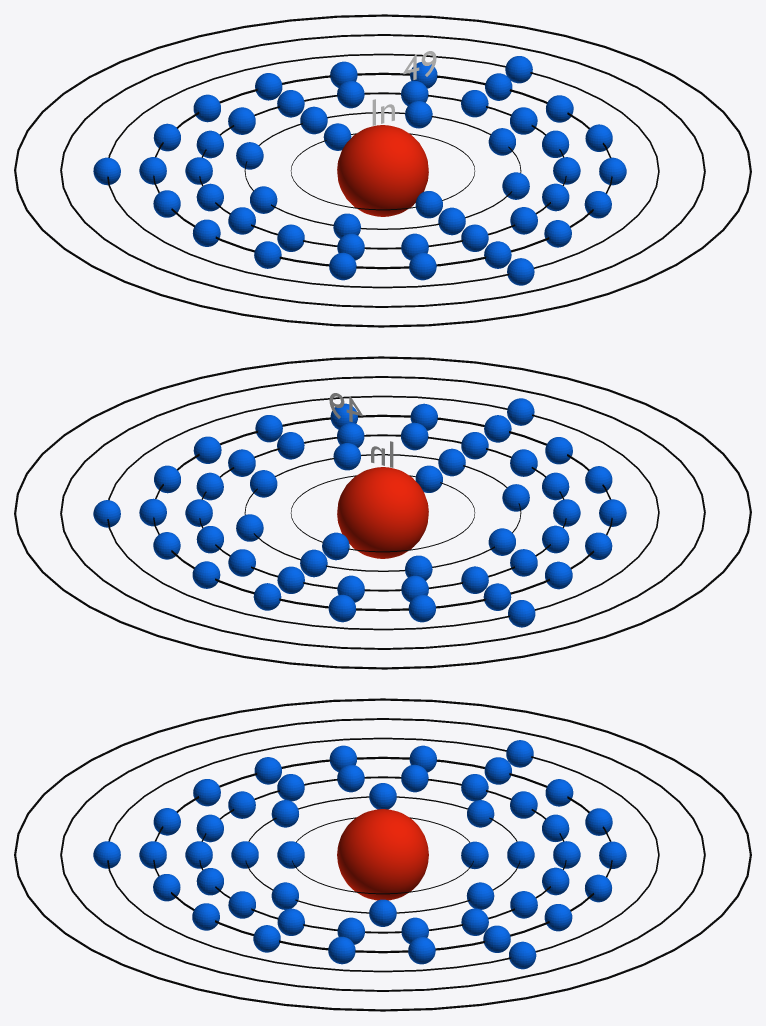
The picture shows the model from 3 angles, top to bottom: view 1: azimuth 30°, elevation 25°; view 2: azimuth 150°, elevation 25°; view 3: azimuth 270°, elevation 25°; orthographic projection.
Visible parts, largest first — view 1: In3, In4, Proton, In2, n7, n6, n5, In5, n4, In1, n3, n2; view 2: In3, In4, Proton, In2, n7, n6, n5, In5, n4, In1, n3, n2; view 3: In3, In4, Proton, In2, n7, n6, n5, In5, n4, In1, n3, n2 (+1 smaller).
Part boxes in pixels (bbox=[...]): In3: bbox=[185, 80, 580, 260]; In4: bbox=[139, 61, 626, 280]; Proton: bbox=[337, 125, 428, 216]; In2: bbox=[236, 101, 529, 238]; n7: bbox=[14, 14, 751, 327]; n6: bbox=[60, 34, 705, 307]; n5: bbox=[107, 53, 659, 288]; In5: bbox=[93, 56, 534, 285]; n4: bbox=[153, 72, 612, 269]; In1: bbox=[323, 123, 442, 218]; n3: bbox=[199, 92, 566, 249]; n2: bbox=[244, 112, 521, 229]; In3: bbox=[185, 422, 580, 602]; In4: bbox=[139, 403, 626, 622]; Proton: bbox=[337, 467, 428, 558]; In2: bbox=[236, 443, 529, 580]; n7: bbox=[14, 356, 751, 669]; n6: bbox=[60, 376, 705, 649]; n5: bbox=[107, 395, 659, 630]; In5: bbox=[93, 398, 535, 627]; n4: bbox=[153, 414, 612, 611]; In1: bbox=[322, 465, 442, 560]; n3: bbox=[199, 434, 566, 591]; n2: bbox=[244, 454, 521, 571]; In3: bbox=[185, 764, 580, 944]; In4: bbox=[139, 745, 626, 964]; Proton: bbox=[337, 809, 428, 900]; In2: bbox=[231, 783, 534, 926]; n7: bbox=[14, 698, 751, 1011]; n6: bbox=[60, 718, 705, 991]; n5: bbox=[107, 737, 659, 972]; In5: bbox=[93, 740, 536, 969]; n4: bbox=[153, 756, 612, 953]; In1: bbox=[277, 841, 488, 869]; n3: bbox=[199, 776, 566, 933]; n2: bbox=[245, 796, 520, 913].
Size of the model in its own units: 802 by 180 by 802.
